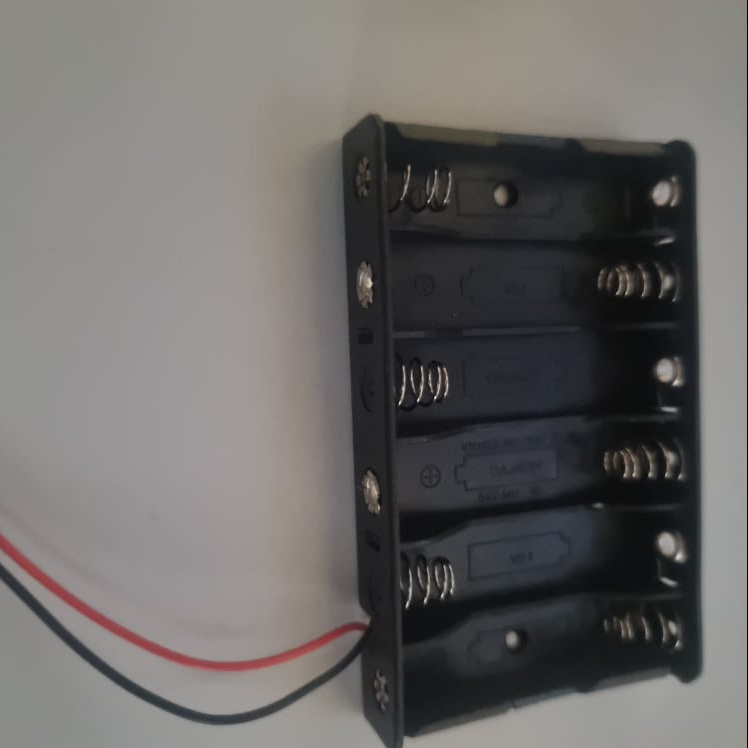BATTERY BOX: (344, 116, 705, 748)
